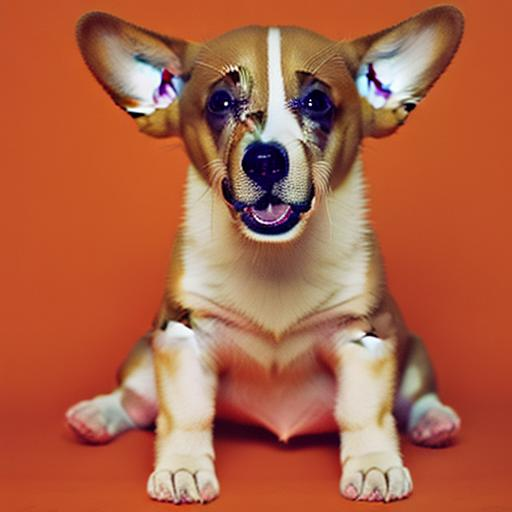eye: (201, 87, 246, 114), (294, 92, 339, 117)
